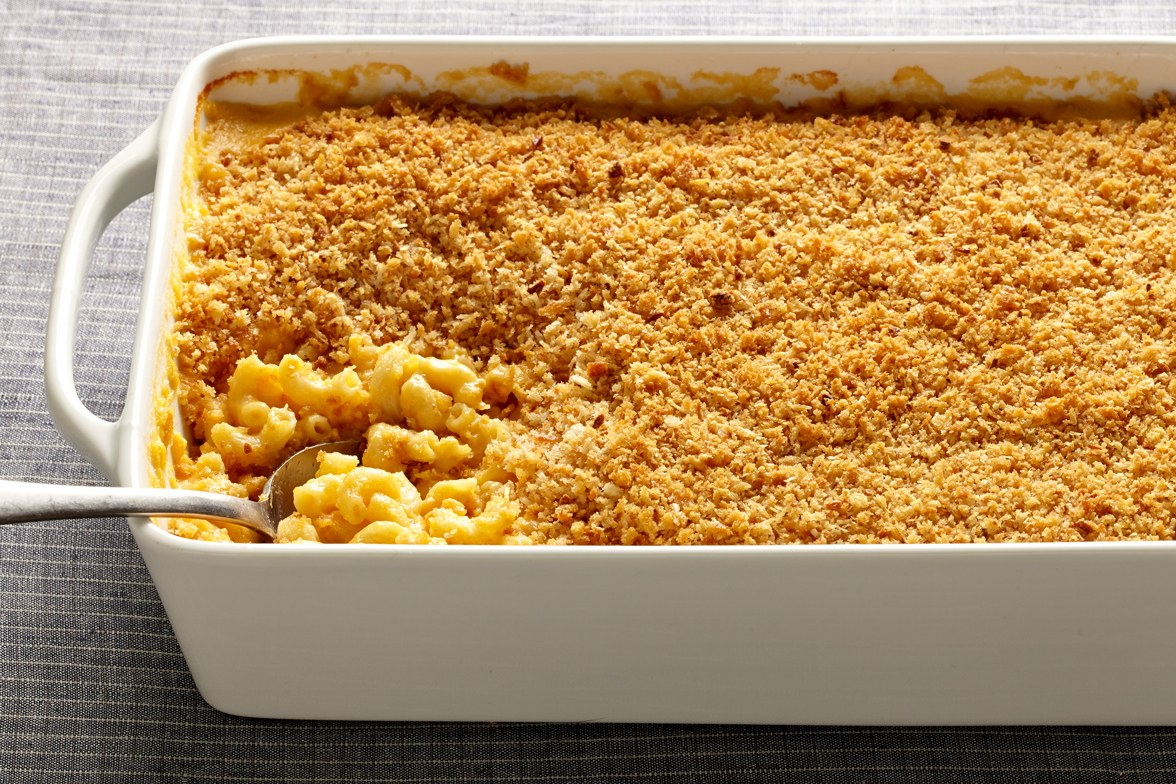macncheese: (81, 343, 514, 639)
